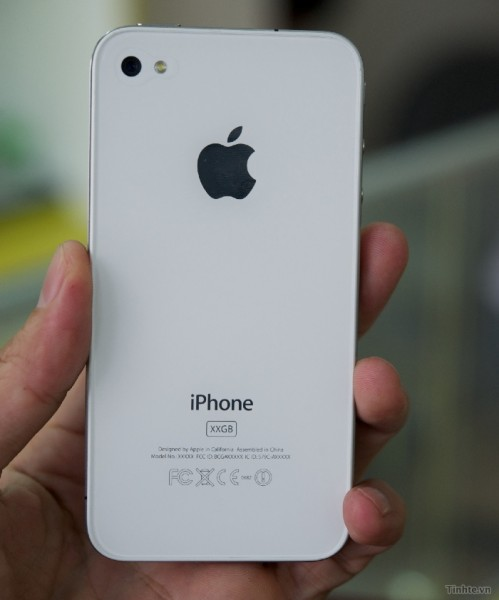apple: (183, 113, 263, 213)
